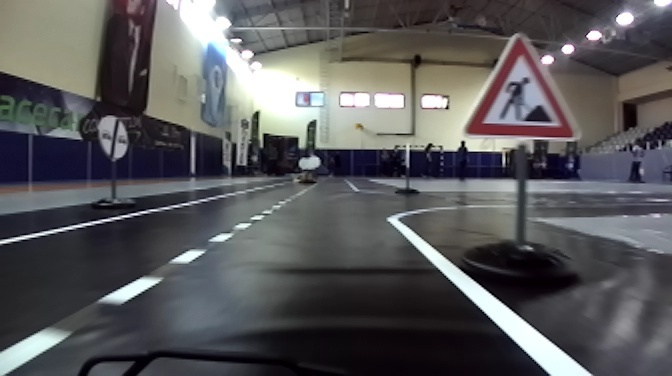yol_yapimi: (458, 33, 584, 139)
